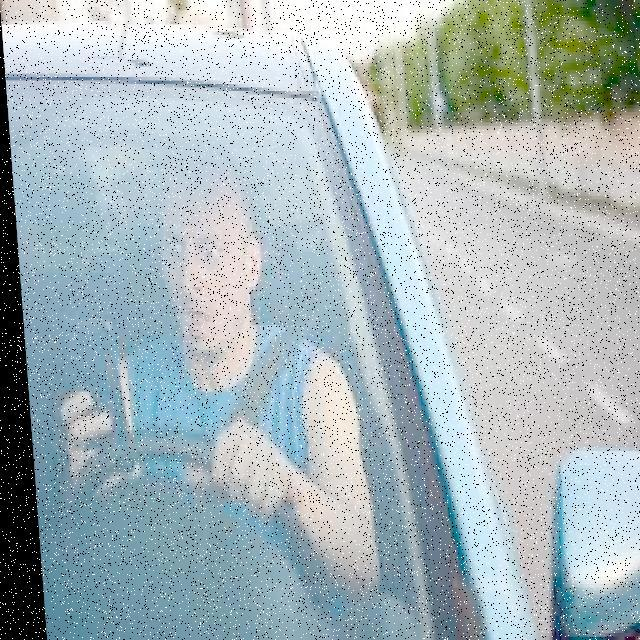seatbelt: (144, 296, 354, 488)
